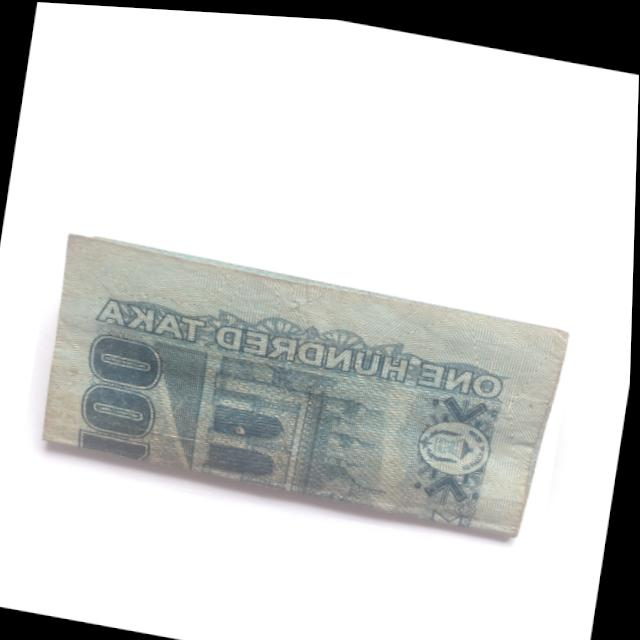Taka: (20, 205, 581, 550)
